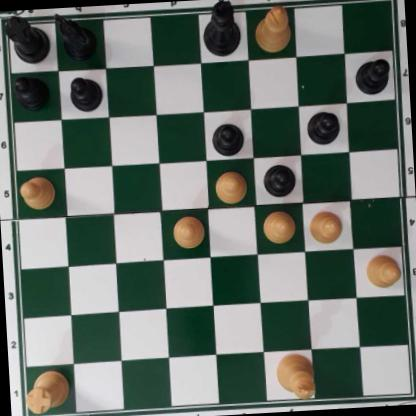black-king: (199, 0, 240, 58)
black-knight: (54, 12, 97, 60)
black-pawn: (354, 56, 392, 96), (12, 75, 50, 112), (68, 73, 102, 112), (209, 120, 245, 156), (305, 107, 340, 144), (262, 161, 296, 198)
black-rook: (2, 13, 50, 64)
white-bishop: (252, 3, 291, 53)
white-king: (273, 350, 317, 401)
white-pawn: (211, 169, 249, 205), (18, 175, 56, 211), (363, 253, 402, 288), (306, 207, 342, 244), (260, 208, 295, 245), (170, 215, 205, 249)
white-rook: (22, 367, 69, 415)
